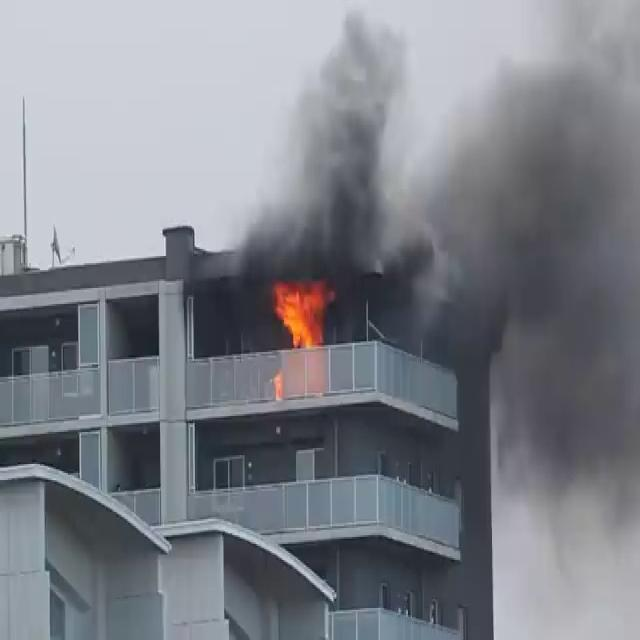Fire: (266, 276, 336, 352)
Smoke: (222, 0, 640, 297)
